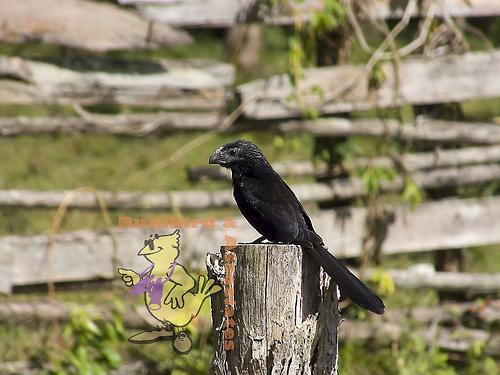004.Groove_billed_Ani: (208, 138, 386, 313)
